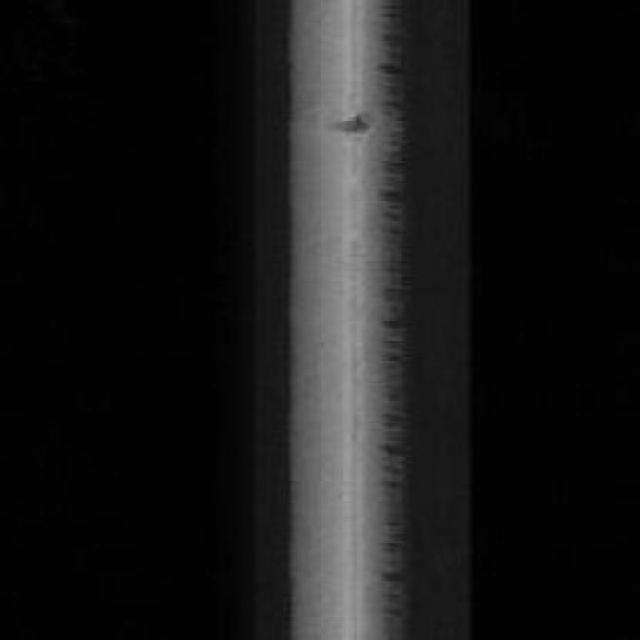non-defective: (235, 1, 538, 640)
